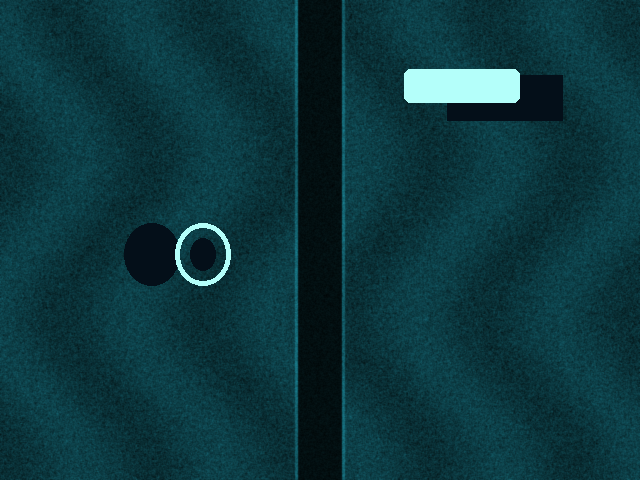Rubber Debris: (175, 223, 230, 285)
Wood Debris: (404, 69, 519, 102)
